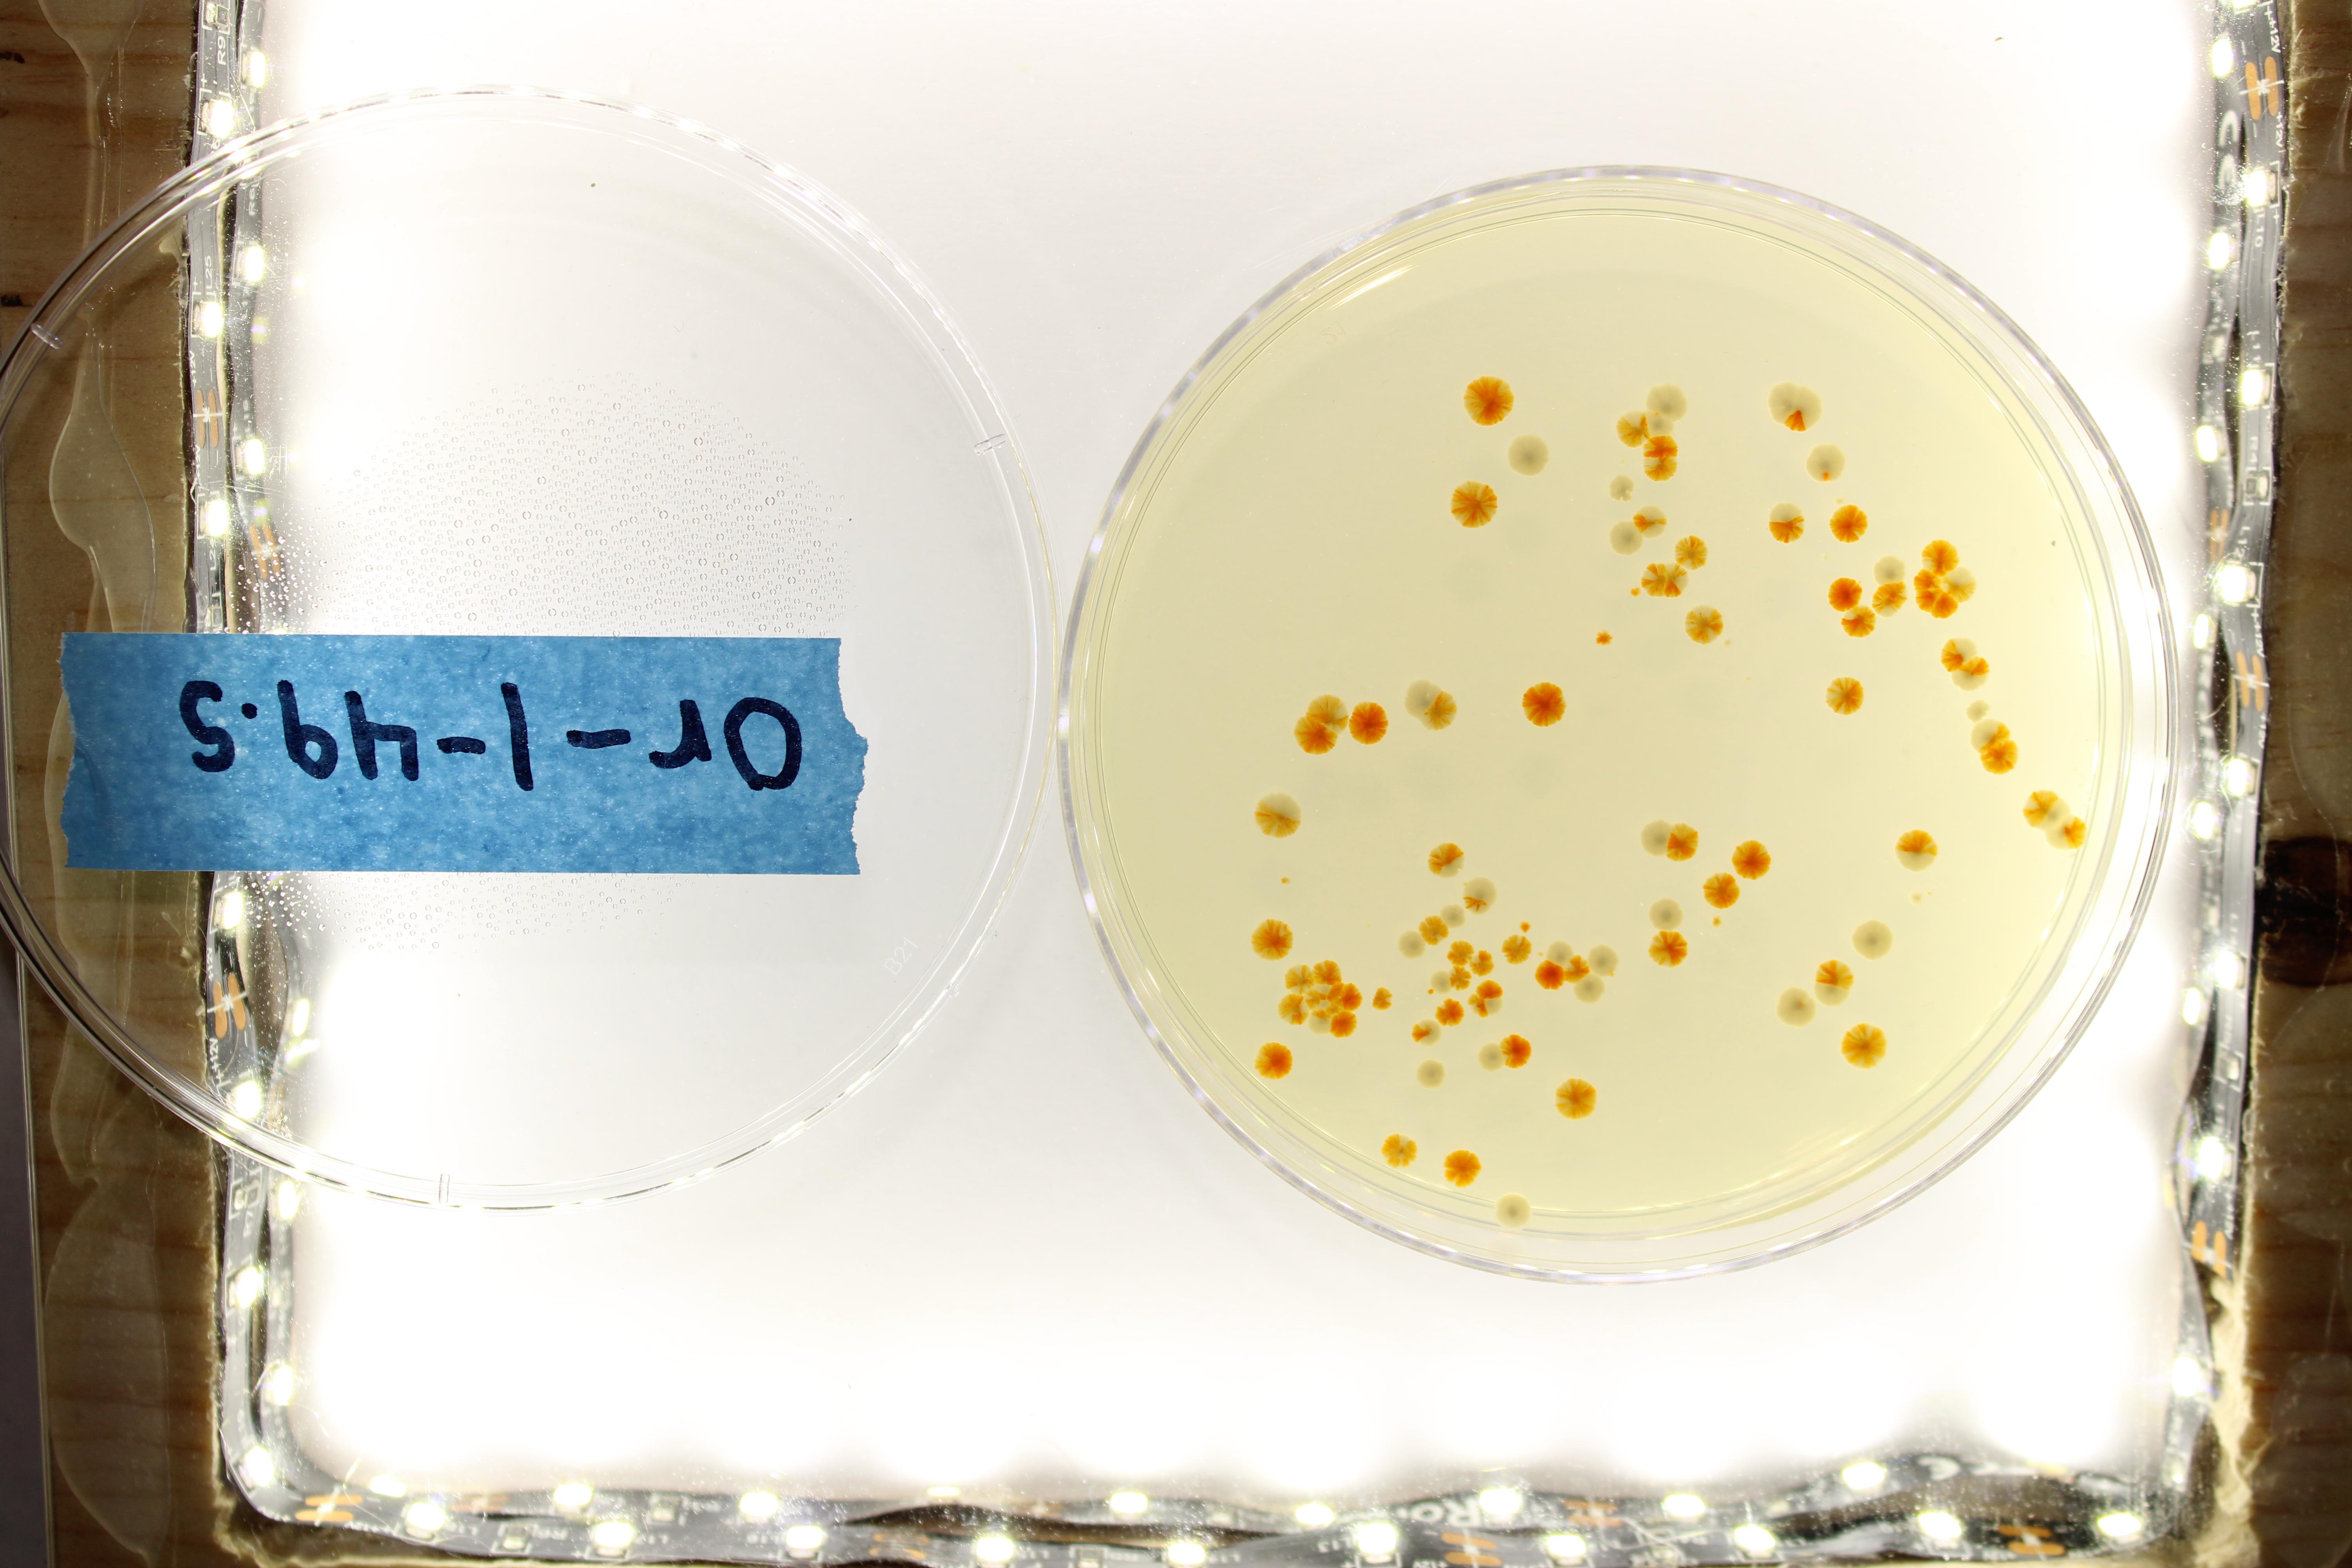orange colony: (1463, 376, 1514, 427), (1451, 480, 1498, 528), (1841, 1024, 1886, 1069), (1521, 683, 1566, 728), (1255, 795, 1302, 837), (1347, 702, 1390, 746), (1249, 919, 1293, 961), (1785, 385, 1824, 432), (1895, 829, 1937, 872), (1556, 1078, 1598, 1120), (1306, 695, 1349, 735), (1731, 840, 1771, 880), (1419, 691, 1459, 732), (1295, 717, 1339, 754), (1806, 445, 1846, 483), (1829, 504, 1869, 543), (1776, 987, 1815, 1027), (1253, 1041, 1293, 1080), (1685, 605, 1724, 644), (2046, 816, 2089, 849), (1827, 677, 1864, 716), (1444, 1150, 1482, 1186), (1649, 931, 1687, 968), (1971, 719, 2011, 754), (1922, 539, 1958, 576), (2023, 791, 2060, 828), (1461, 877, 1498, 914), (1428, 842, 1465, 878), (1951, 656, 1990, 691), (1381, 1134, 1419, 1169), (1941, 567, 1976, 604), (1981, 739, 2018, 773), (1703, 873, 1739, 908), (1941, 637, 1976, 672), (1500, 1032, 1533, 1069), (1668, 824, 1699, 863), (1615, 413, 1649, 448), (1841, 605, 1876, 639), (1633, 506, 1668, 539), (1815, 959, 1853, 989), (1829, 577, 1862, 611), (1673, 536, 1706, 569), (1418, 914, 1449, 947), (1769, 516, 1806, 544), (1328, 984, 1363, 1012), (1535, 961, 1566, 990), (1277, 994, 1307, 1025), (1640, 457, 1677, 481), (1502, 935, 1531, 964), (1664, 562, 1689, 597), (1641, 562, 1666, 597), (1641, 434, 1678, 457), (1435, 999, 1465, 1027), (1284, 964, 1312, 994), (1643, 411, 1675, 436), (1930, 592, 1958, 618), (1412, 1019, 1440, 1045), (1565, 955, 1591, 984), (1447, 940, 1475, 966), (1332, 1012, 1358, 1039), (1312, 961, 1342, 985), (1468, 950, 1494, 976), (1871, 581, 1909, 598), (1871, 598, 1906, 618), (1306, 984, 1330, 1010), (1913, 569, 1941, 592), (1307, 1010, 1332, 1034), (1915, 590, 1941, 612), (1449, 966, 1472, 990), (1372, 985, 1391, 1010), (1477, 980, 1503, 998), (1468, 994, 1488, 1017), (1596, 630, 1613, 646), (1521, 921, 1531, 933), (1629, 586, 1640, 598), (1711, 915, 1722, 926), (1279, 875, 1292, 884), (1608, 971, 1615, 978), (1927, 891, 1934, 896), (1428, 989, 1433, 996), (1538, 952, 1543, 957), (1747, 675, 1750, 681)
wild colony: (1508, 434, 1549, 476), (1645, 383, 1687, 422), (1852, 921, 1892, 959), (1405, 681, 1442, 719), (1766, 382, 1799, 424), (1649, 898, 1683, 931), (1640, 821, 1673, 856), (1496, 1194, 1529, 1228), (1610, 521, 1643, 555), (2039, 798, 2070, 831), (1587, 945, 1619, 975), (1815, 984, 1852, 1008), (1874, 556, 1906, 585), (1418, 1059, 1445, 1090), (1575, 975, 1605, 1003), (1398, 931, 1426, 959), (1608, 474, 1634, 502), (1477, 1041, 1502, 1071), (1547, 941, 1575, 966), (1768, 504, 1804, 521), (1439, 905, 1465, 927), (1430, 970, 1453, 996), (1967, 702, 1990, 723), (1482, 998, 1503, 1015), (1911, 892, 1922, 905), (1619, 455, 1628, 465), (1836, 497, 1845, 504), (1724, 637, 1731, 646), (1822, 555, 1829, 560)
